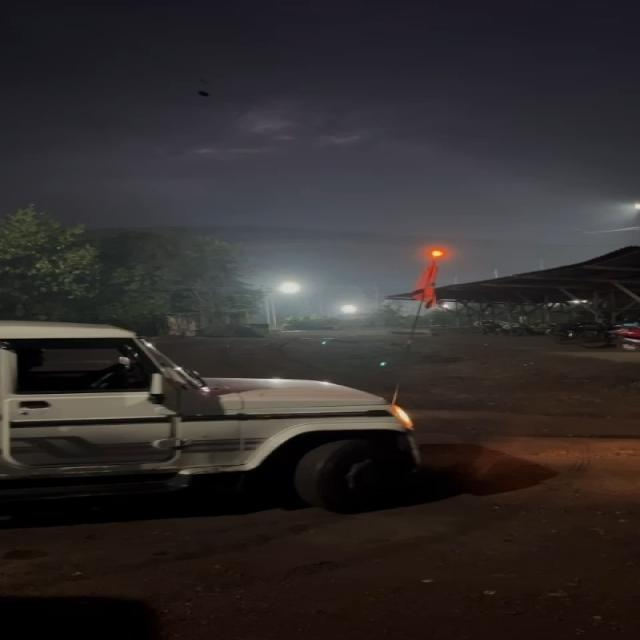light_vehicle: (0, 326, 429, 508)
